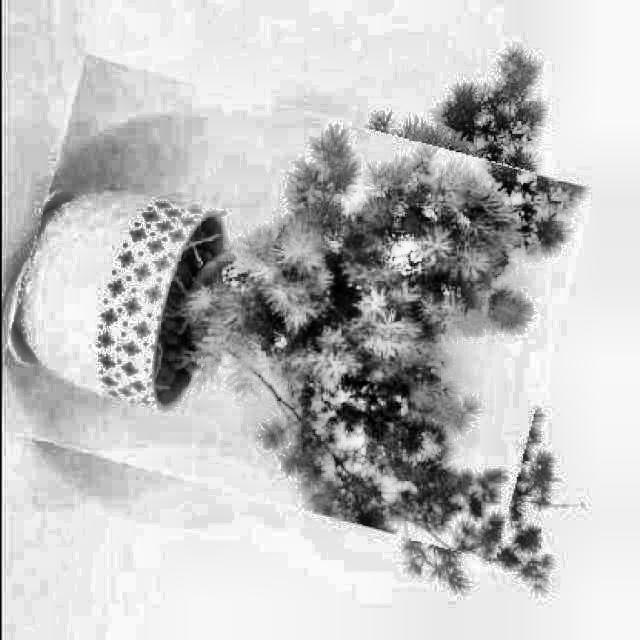plants: (4, 84, 570, 530)
